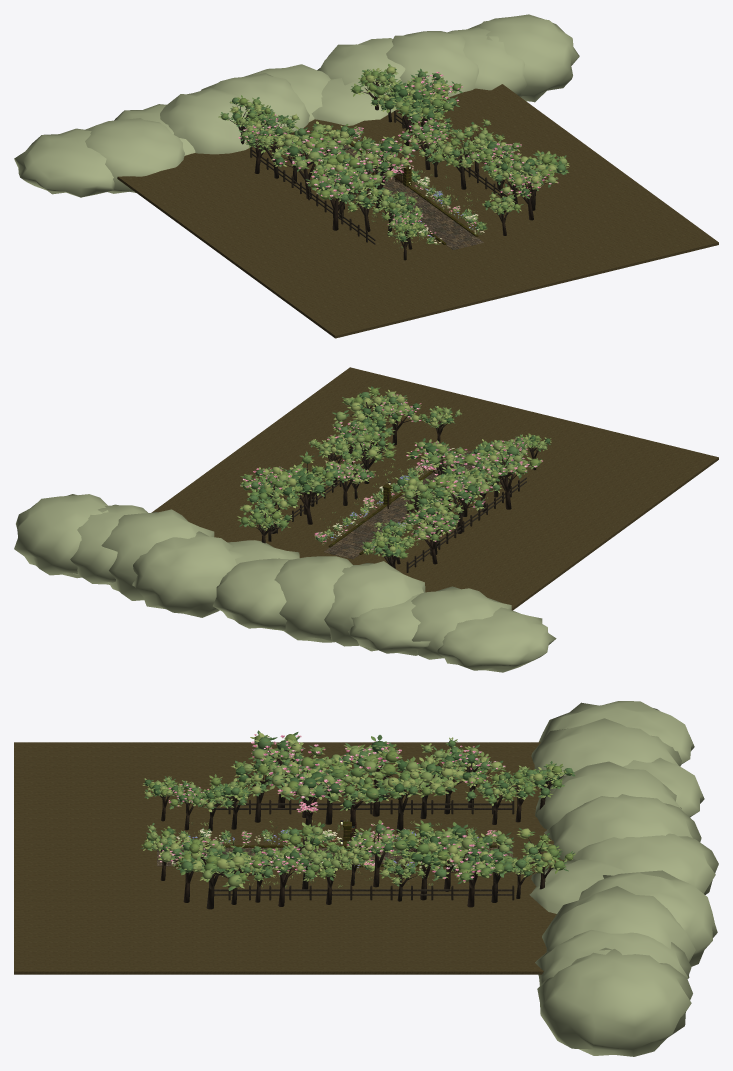
Rendered from garden-3.glb.
3 views of the same model, one above another, from view 1: azimuth 30°, elevation 25°; view 2: azimuth 150°, elevation 25°; view 3: azimuth 270°, elevation 25° (orthographic). The views are drawn at different scales.
Visible parts, largest first — view 1: Terrain.003, Distant garden ridges.003, Inner canopy clusters.003, Canopy leaf sprays.003, Branch forks.003, Individual garden flagstones.003, Forked timber and bark.003, Sculpted petals.003, Garden fence rails.003, Oval leaves on low shrubs.003, Garden fence posts.003; view 2: Terrain.003, Distant garden ridges.003, Inner canopy clusters.003, Canopy leaf sprays.003, Branch forks.003, Individual garden flagstones.003, Sculpted petals.003, Forked timber and bark.003, Garden fence rails.003, Oval leaves on low shrubs.003, Garden fence posts.003, Leaf masses inside low shrubs.003; view 3: Terrain.003, Distant garden ridges.003, Inner canopy clusters.003, Canopy leaf sprays.003, Forked timber and bark.003, Branch forks.003, Sculpted petals.003, Garden fence rails.003, Garden fence posts.003, Individual garden flagstones.003, Oval leaves on low shrubs.003.
Part boxes in pixels (x1=…): Terrain.003: x1=117, y1=84, x2=718, y2=338; Distant garden ridges.003: x1=14, y1=14, x2=579, y2=197; Inner canopy clusters.003: x1=221, y1=66, x2=567, y2=241; Canopy leaf sprays.003: x1=218, y1=64, x2=569, y2=241; Branch forks.003: x1=228, y1=80, x2=547, y2=248; Individual garden flagstones.003: x1=325, y1=137, x2=483, y2=249; Forked timber and bark.003: x1=240, y1=79, x2=542, y2=260; Sculpted petals.003: x1=238, y1=71, x2=558, y2=243; Garden fence rails.003: x1=251, y1=114, x2=519, y2=244; Oval leaves on low shrubs.003: x1=318, y1=127, x2=486, y2=243; Garden fence posts.003: x1=250, y1=110, x2=503, y2=242; Terrain.003: x1=151, y1=367, x2=718, y2=610; Distant garden ridges.003: x1=14, y1=494, x2=556, y2=672; Inner canopy clusters.003: x1=241, y1=388, x2=550, y2=558; Canopy leaf sprays.003: x1=237, y1=386, x2=551, y2=557; Branch forks.003: x1=249, y1=396, x2=541, y2=567; Individual garden flagstones.003: x1=324, y1=450, x2=476, y2=559; Sculpted petals.003: x1=240, y1=394, x2=542, y2=551; Forked timber and bark.003: x1=261, y1=402, x2=536, y2=568; Garden fence rails.003: x1=271, y1=444, x2=526, y2=568; Oval leaves on low shrubs.003: x1=315, y1=445, x2=483, y2=554; Garden fence posts.003: x1=276, y1=448, x2=519, y2=572; Leaf masses inside low shrubs.003: x1=315, y1=447, x2=484, y2=553; Terrain.003: x1=14, y1=742, x2=563, y2=974; Distant garden ridges.003: x1=529, y1=701, x2=718, y2=1056; Inner canopy clusters.003: x1=143, y1=734, x2=573, y2=887; Canopy leaf sprays.003: x1=140, y1=730, x2=575, y2=890; Forked timber and bark.003: x1=160, y1=759, x2=545, y2=909; Branch forks.003: x1=155, y1=747, x2=565, y2=889; Sculpted petals.003: x1=159, y1=734, x2=507, y2=881; Garden fence rails.003: x1=213, y1=803, x2=512, y2=895; Garden fence posts.003: x1=228, y1=800, x2=514, y2=900; Individual garden flagstones.003: x1=157, y1=847, x2=512, y2=866; Oval leaves on low shrubs.003: x1=177, y1=828, x2=497, y2=871.
Bounding box in the file's own units: 54.45 × 10.3 × 49.43.
Materials: 10 (4 with a texture image).
